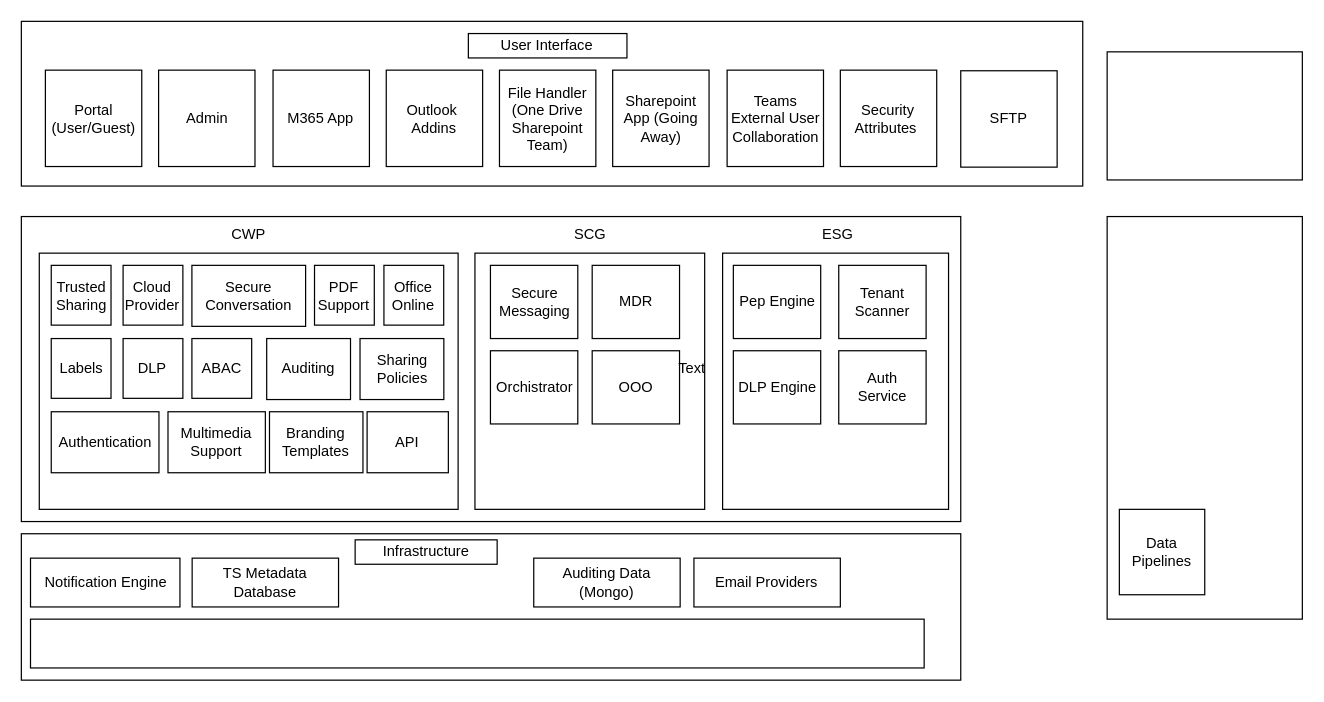
The diagram is 1324 pixels wide and 702 high, and some of its shapes have lost their labels. The shapes that lost their labels are listed below. From the top down, each one's box as (x1, y1, x2, y2) in pixels, then its label:
(1106, 51, 1302, 180): Power BI reporting
(1106, 215, 1302, 619): Analytics (Data Bricks)
(29, 618, 924, 668): Azure Infrastructure
